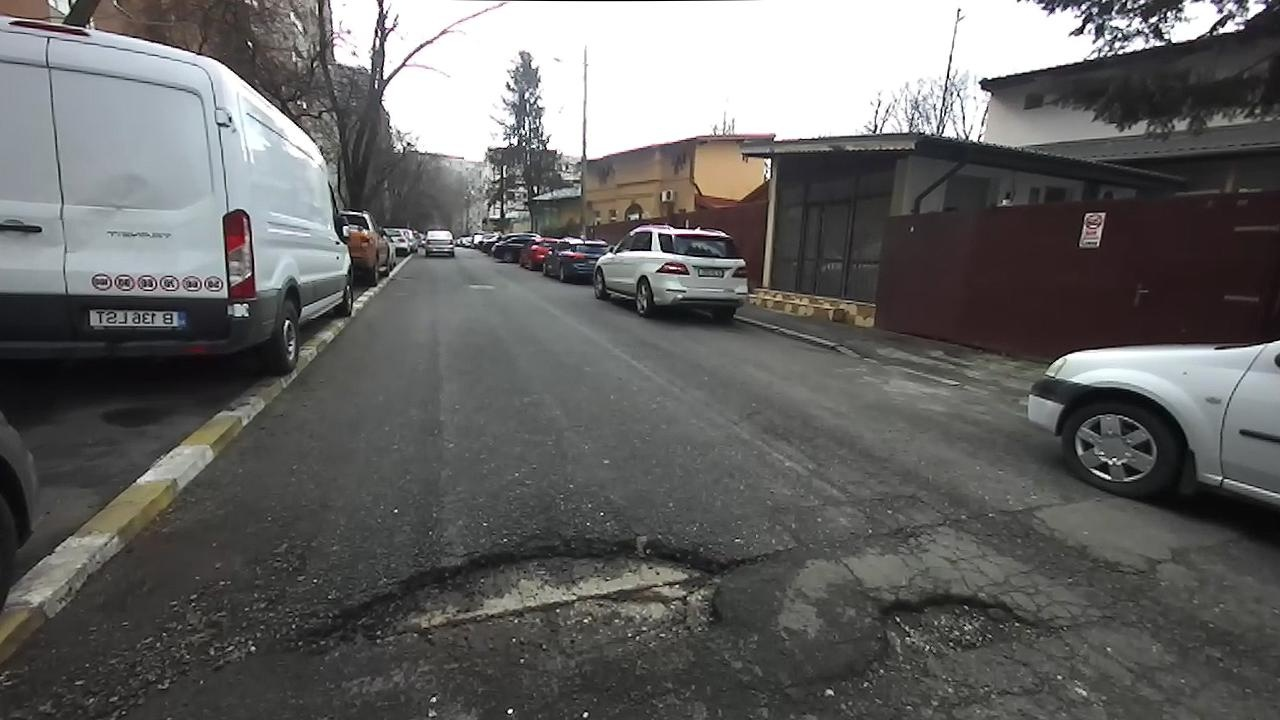pothole: (275, 527, 758, 669), (853, 590, 1065, 684)
